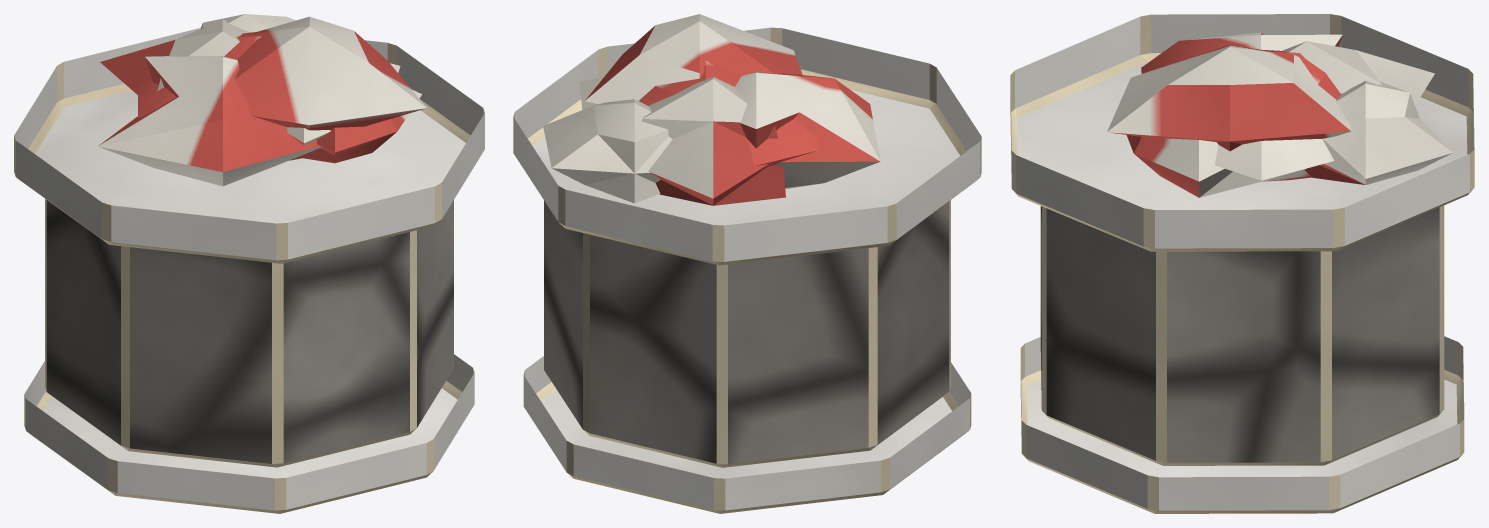
The model's file is Env_Planter.fbx.
3 views of the same model, side by side, from view 1: azimuth 30°, elevation 25°; view 2: azimuth 150°, elevation 25°; view 3: azimuth 270°, elevation 25° (orthographic). The views are drawn at different scales.
Parts seen in each view (by area): view 1: Env_Planter; view 2: Env_Planter; view 3: Env_Planter.
Boxes of the visible parts, <box> form: Env_Planter: <box>14,14,484,513</box>; Env_Planter: <box>513,14,981,513</box>; Env_Planter: <box>1010,14,1474,513</box>.
Size of the model in its own units: 85.23 by 85.23 by 81.79.
